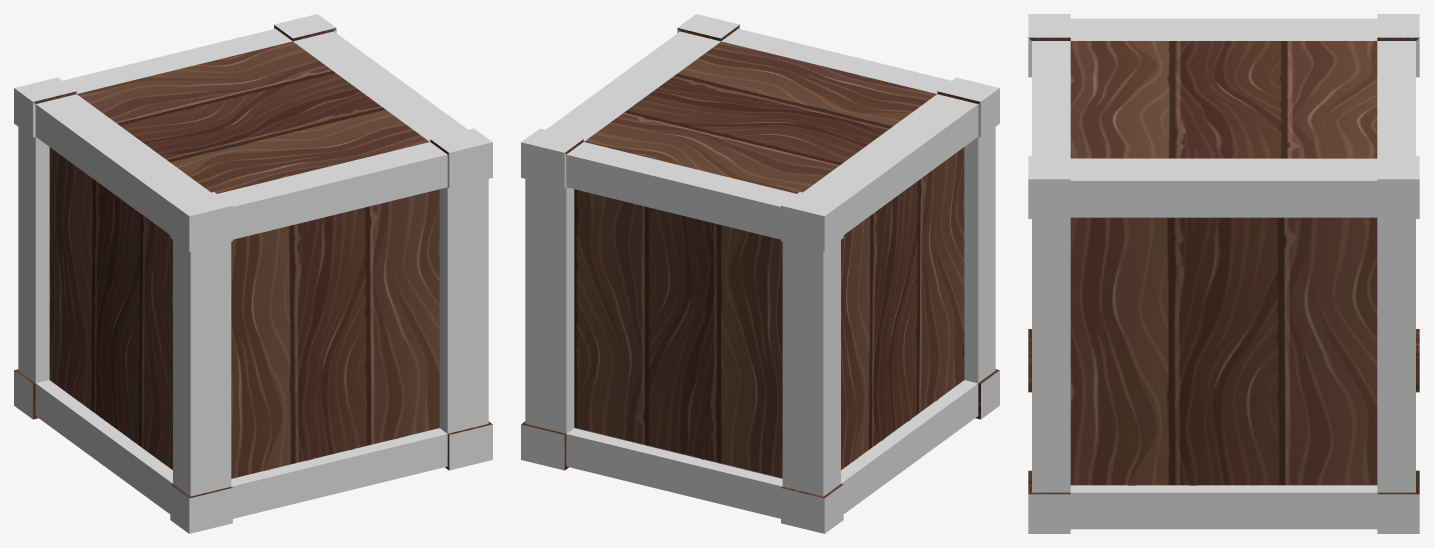
File: woodcrate3.fbx
The picture shows the model from 3 angles, left to right: view 1: azimuth 30°, elevation 25°; view 2: azimuth 150°, elevation 25°; view 3: azimuth 270°, elevation 25°; orthographic projection. The views are drawn at different scales.
Parts seen in each view (by area): view 1: WoodCrate; view 2: WoodCrate; view 3: WoodCrate.
Boxes of the visible parts, x1,y1,x2,y2 form: WoodCrate: (14, 14, 492, 533); WoodCrate: (521, 14, 999, 533); WoodCrate: (1028, 14, 1419, 533).
Size of the model in its own units: 93.67 by 93.67 by 93.67.
Materials: 2 (1 with a texture image).
